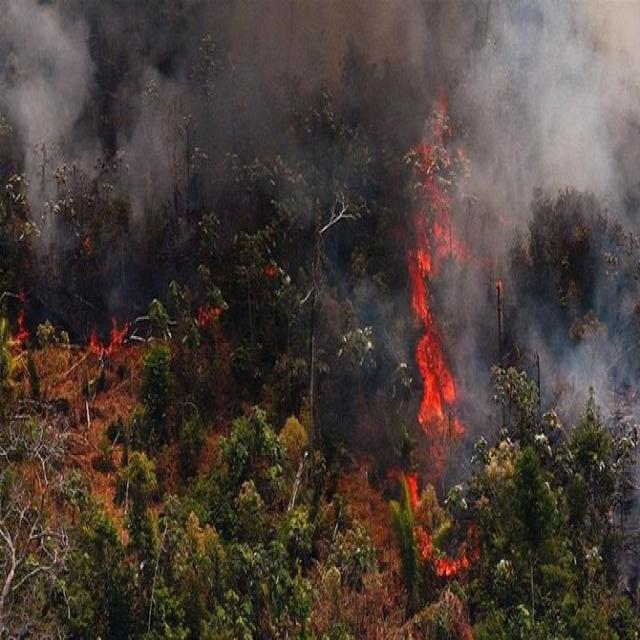Fire: (408, 145, 464, 448)
Smoke: (445, 0, 637, 448), (1, 2, 192, 299)
